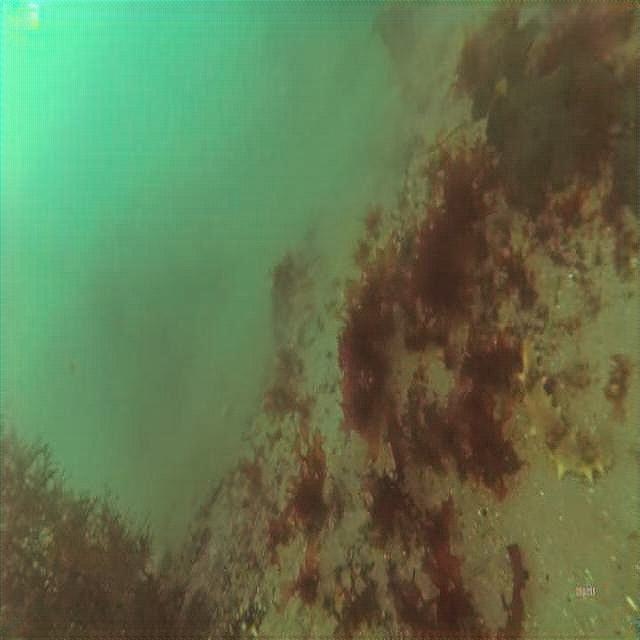holothurian: (518, 331, 617, 488)
